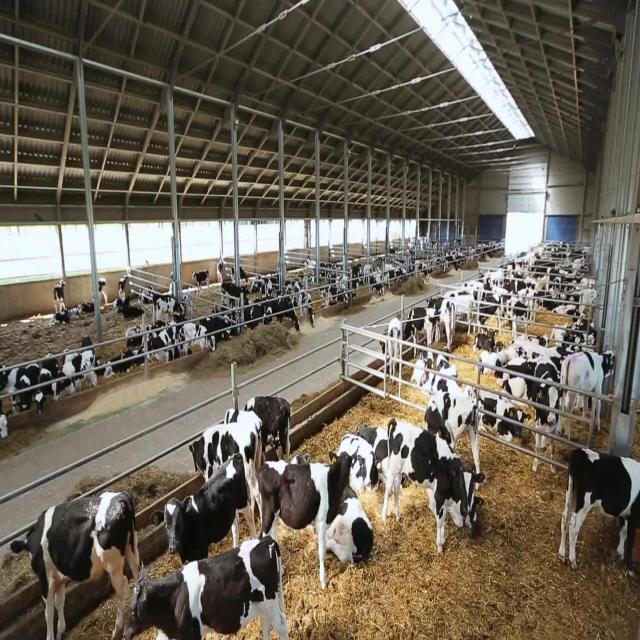cow: (10, 488, 143, 639), (123, 534, 290, 639), (378, 417, 486, 555), (257, 450, 361, 590), (150, 452, 254, 564), (558, 446, 639, 572)
